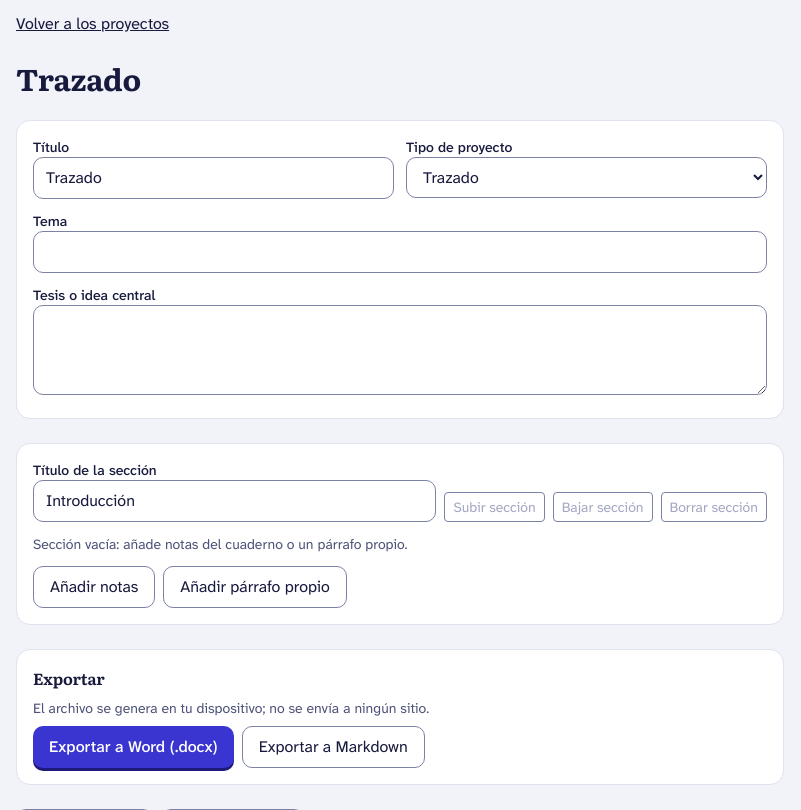
ProjectEditor › al ocultar la pestaña guarda y el estado muestra «Guardado» (o el error)
The image size is (801, 810).
Type "Al ocultar" into the text box labelled "Tesis o idea central" at [400, 350], box [33,305,767,395]
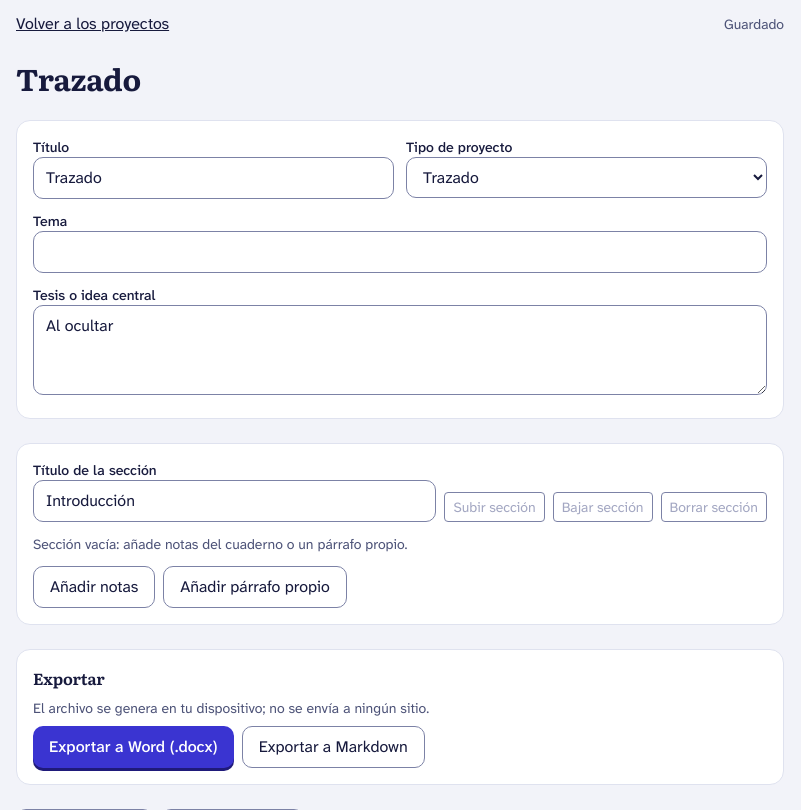
Now the text "Guardado" is shown, box [724,14,784,34]
Replace the text in the text box labelled "Tesis o idea central" with "Falla" at [400, 350], box [33,305,767,395]
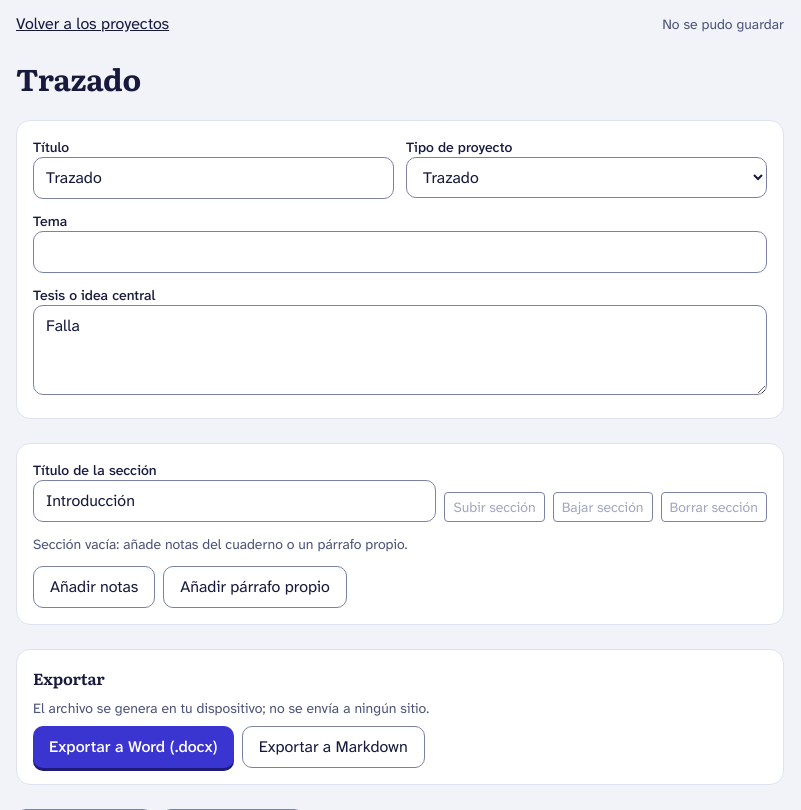
Now the text "No se pudo guardar" is shown, box [662,14,784,34]
